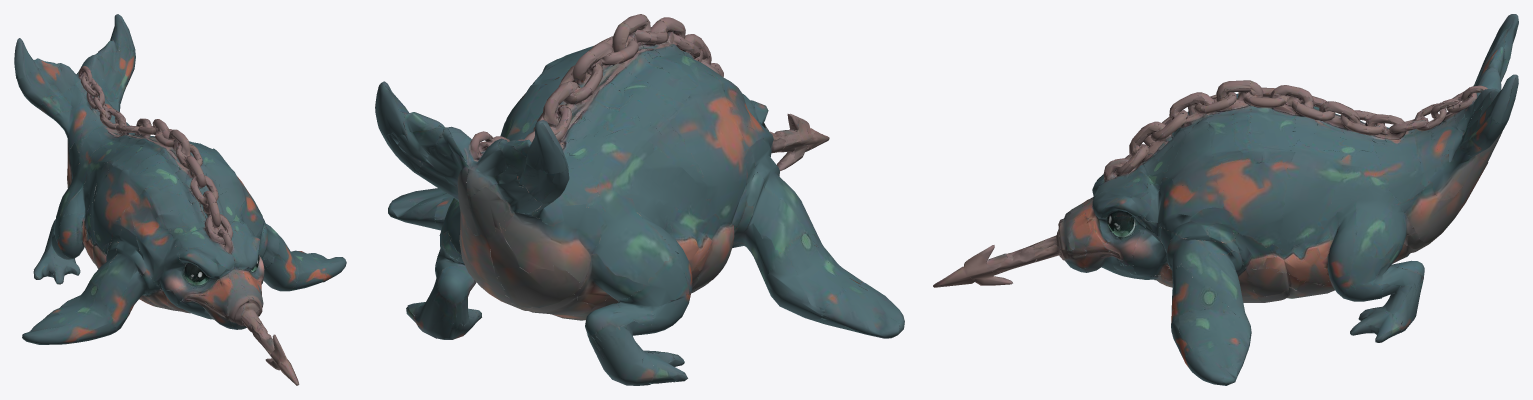
The picture shows the model from 3 angles, left to right: view 1: azimuth 30°, elevation 25°; view 2: azimuth 150°, elevation 25°; view 3: azimuth 270°, elevation 25°; orthographic projection. The views are drawn at different scales.
Visible parts, largest first — view 1: Mesh_0; view 2: Mesh_0; view 3: Mesh_0.
Boxes of the visible parts, x1=… form: Mesh_0: x1=14, y1=14, x2=346, y2=385; Mesh_0: x1=375, y1=14, x2=904, y2=385; Mesh_0: x1=933, y1=14, x2=1518, y2=385.
Size of the model in its own units: 1.52 by 0.8774 by 1.9.
1 material, 1 textured.
